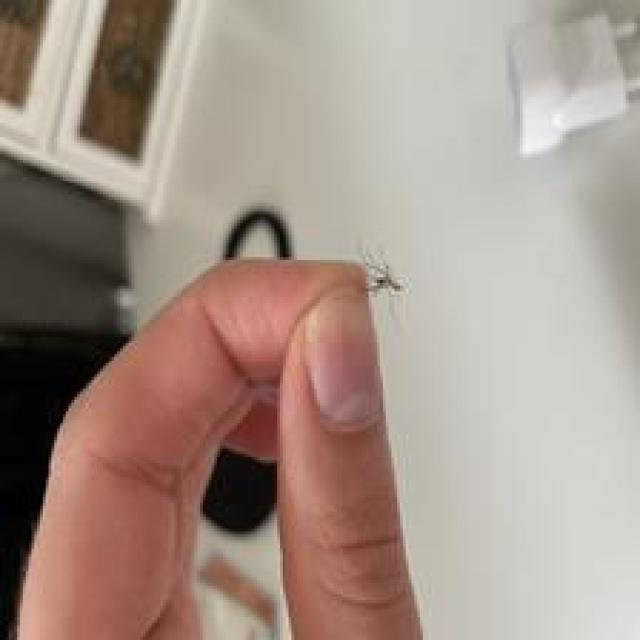Culex: (505, 0, 640, 160)
